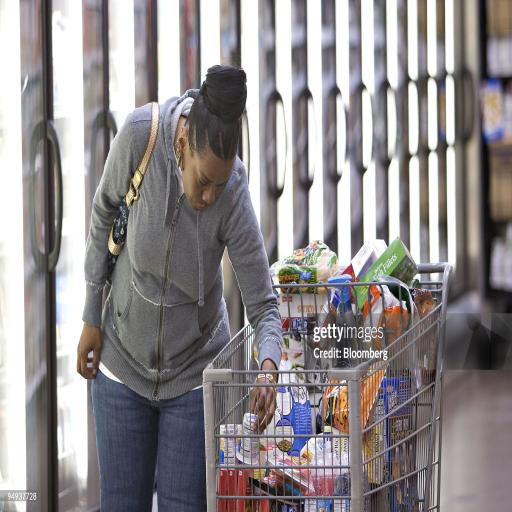shopping_cart: (202, 260, 454, 512)
